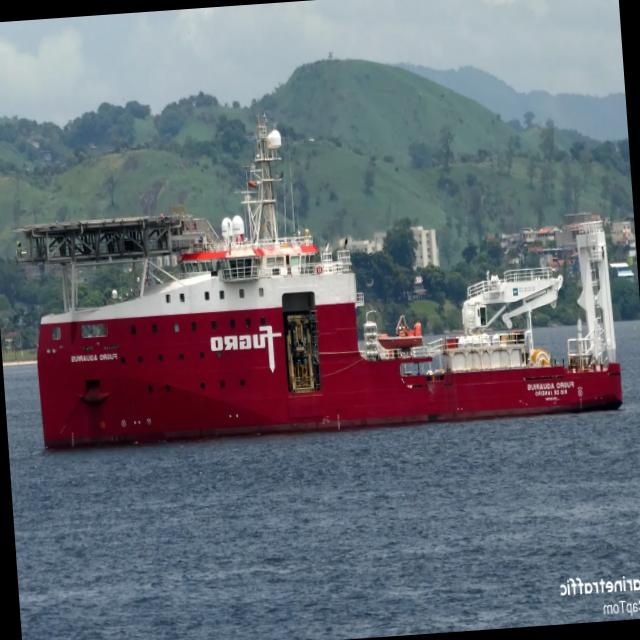Offshore: (16, 119, 622, 447)
